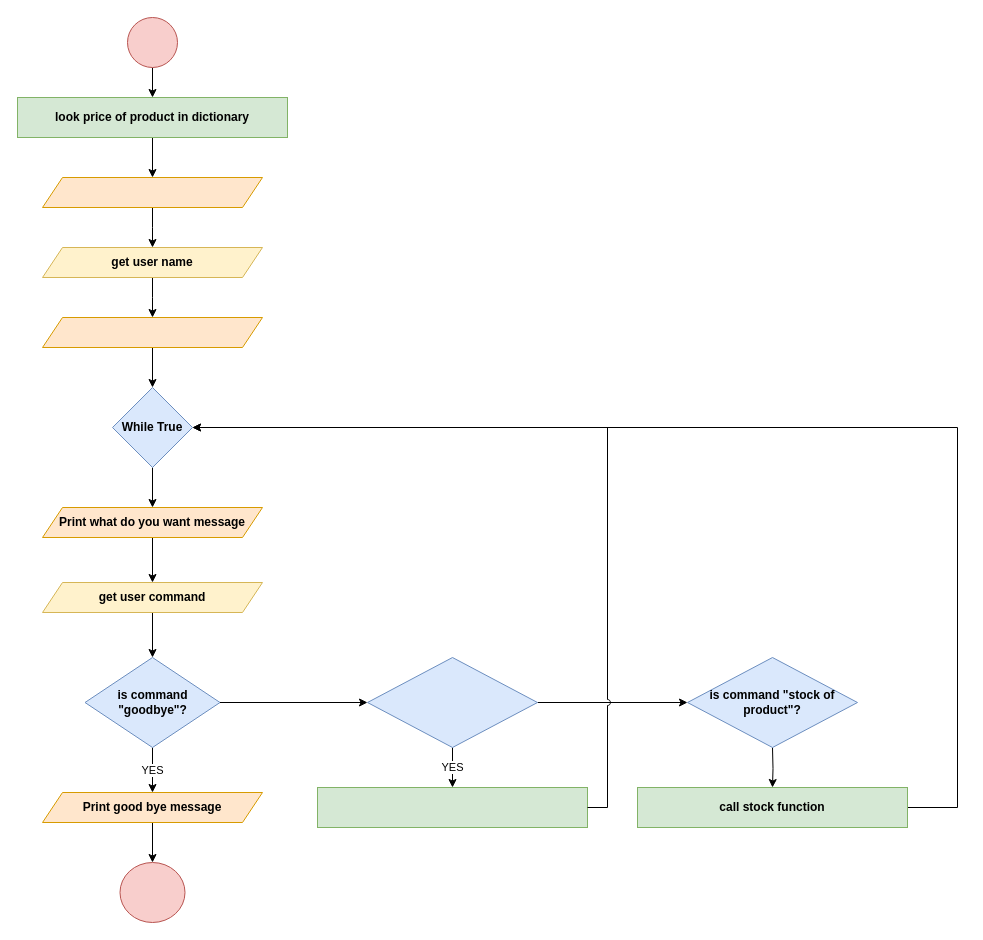
Image size: 983x940. Some labels were removed from this diagram. Here are the shapes that lost their labels. From the top down, the centre of each, then its label:
(x=152, y=192): Print welcome message
(x=152, y=332): Print hello message
(x=452, y=702): is command "price of product"?
(x=452, y=807): call price function
